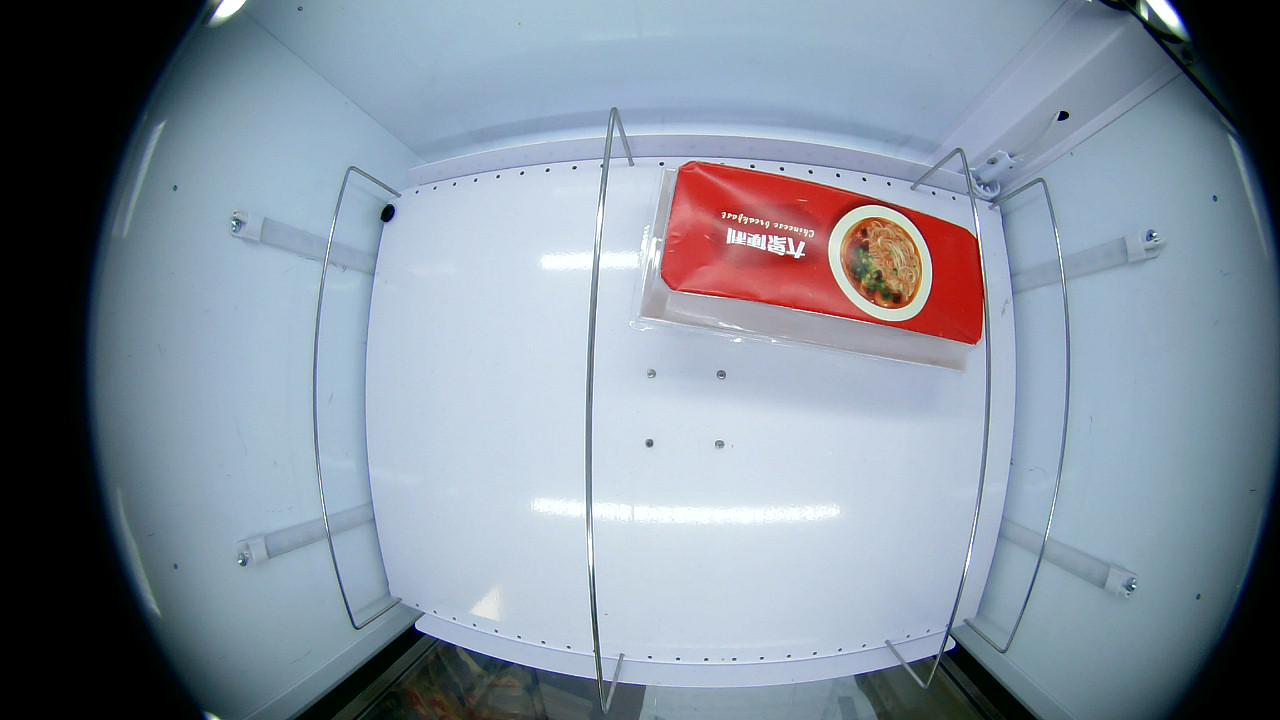goods: (831, 203, 931, 319)
